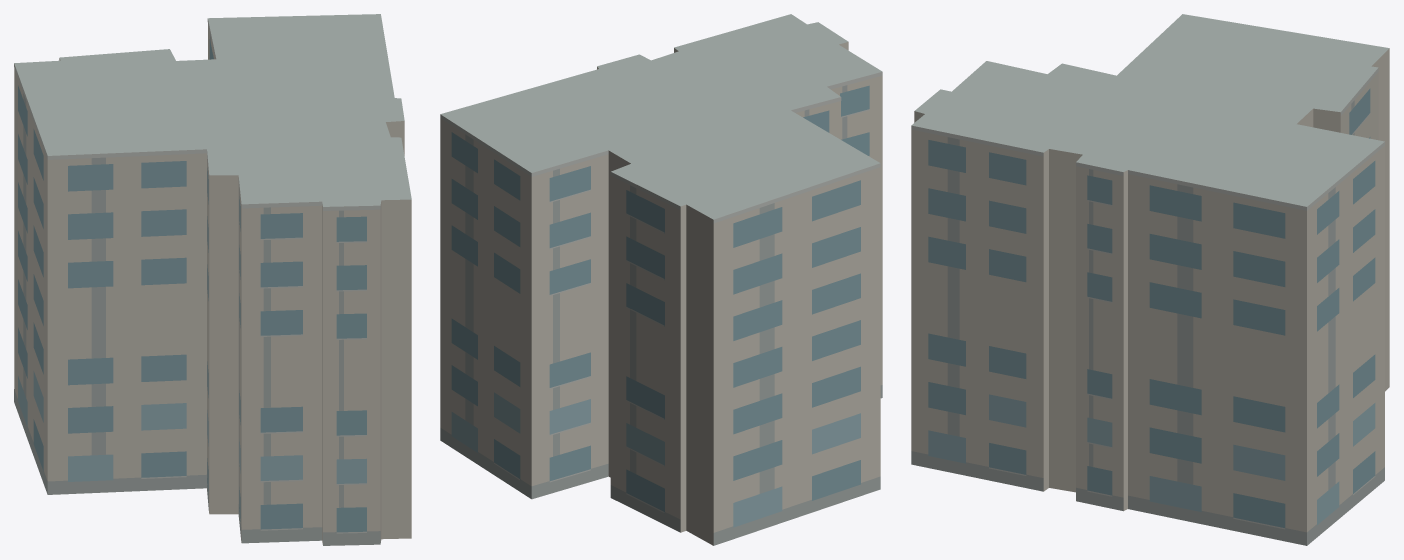
The model's file is survey-upis-32957629.glb.
The picture shows the model from 3 angles, left to right: view 1: azimuth 30°, elevation 25°; view 2: azimuth 150°, elevation 25°; view 3: azimuth 270°, elevation 25°; orthographic projection. The views are drawn at different scales.
Visible parts, largest first — view 1: survey-upis-32957629.tmp; view 2: survey-upis-32957629.tmp; view 3: survey-upis-32957629.tmp.
Part boxes in pixels (left/top/right/bottom): survey-upis-32957629.tmp: left=14, top=14, right=411, bottom=545; survey-upis-32957629.tmp: left=440, top=14, right=882, bottom=545; survey-upis-32957629.tmp: left=911, top=14, right=1389, bottom=545.
Size of the model in its own units: 24.98 by 20.46 by 26.17.
